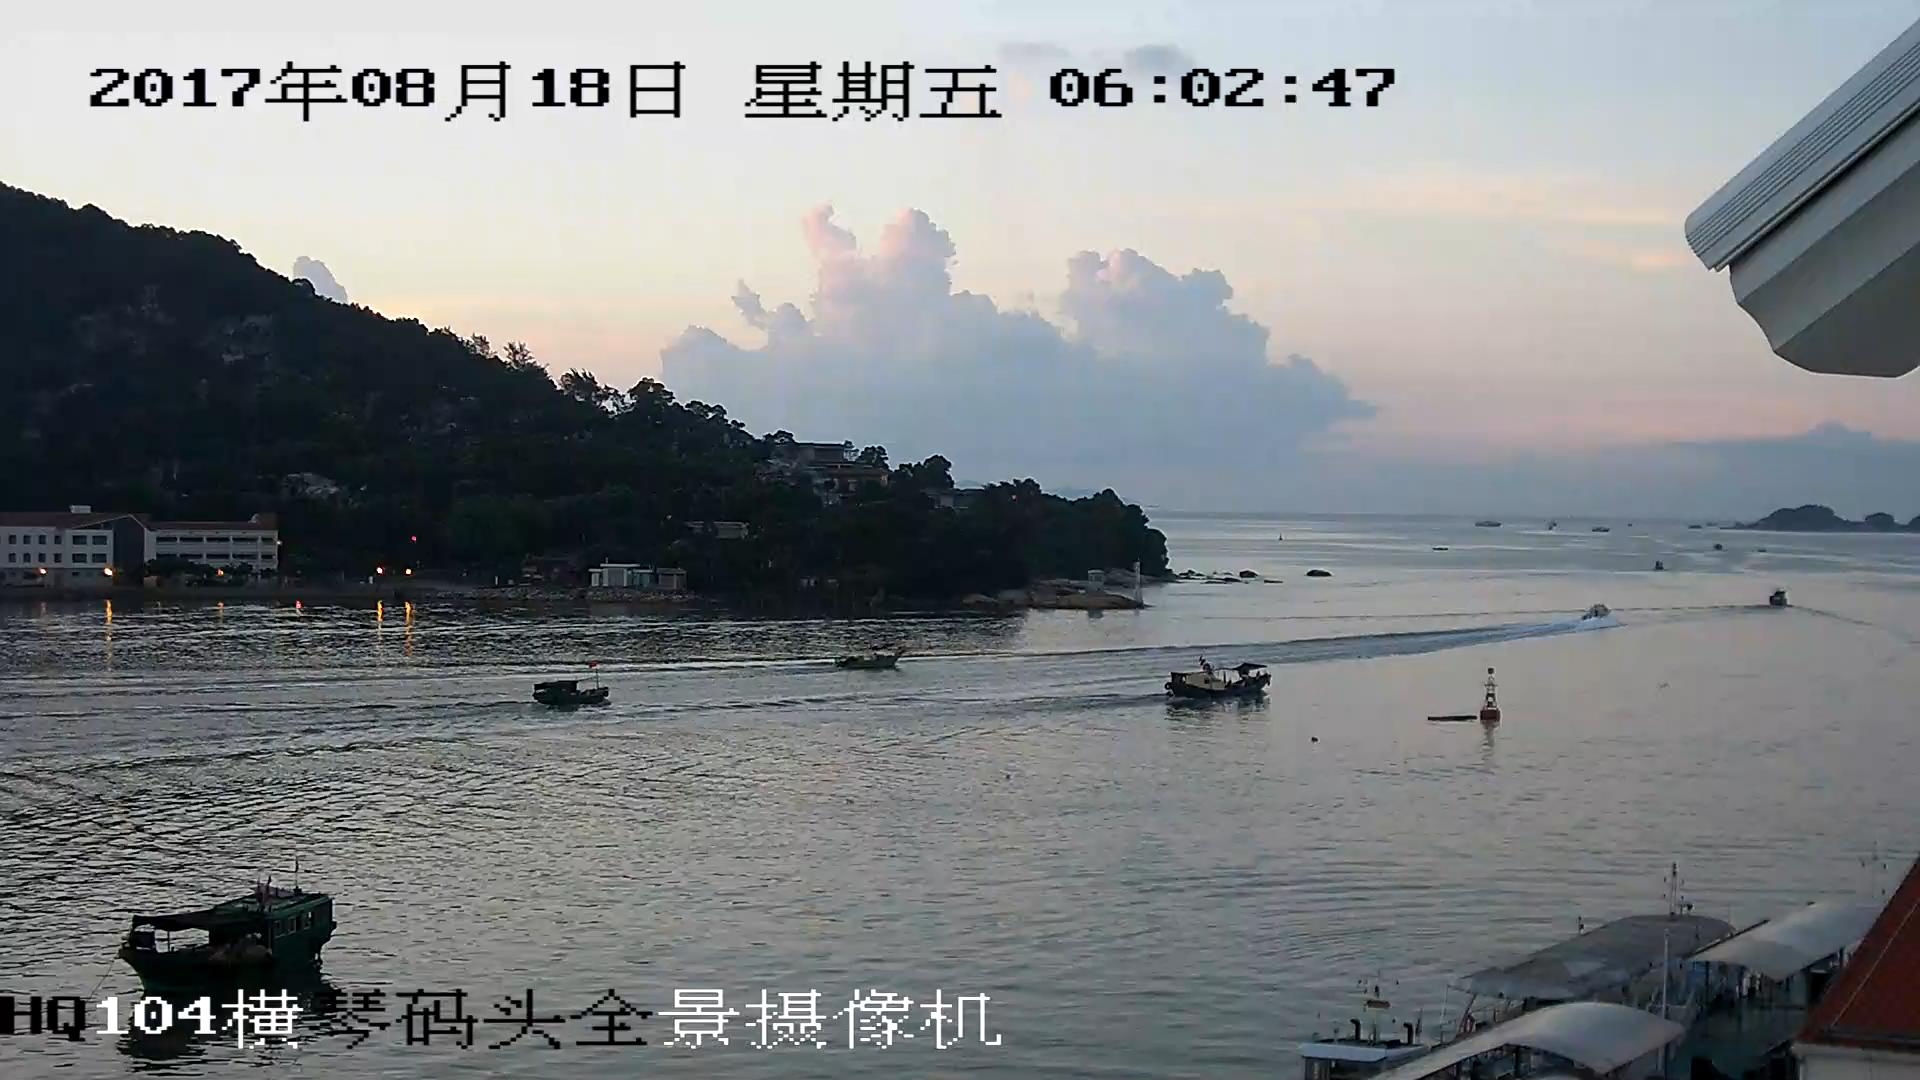fishing boat: (116, 892, 345, 988), (1172, 654, 1273, 702), (532, 679, 609, 706), (838, 642, 900, 674)
